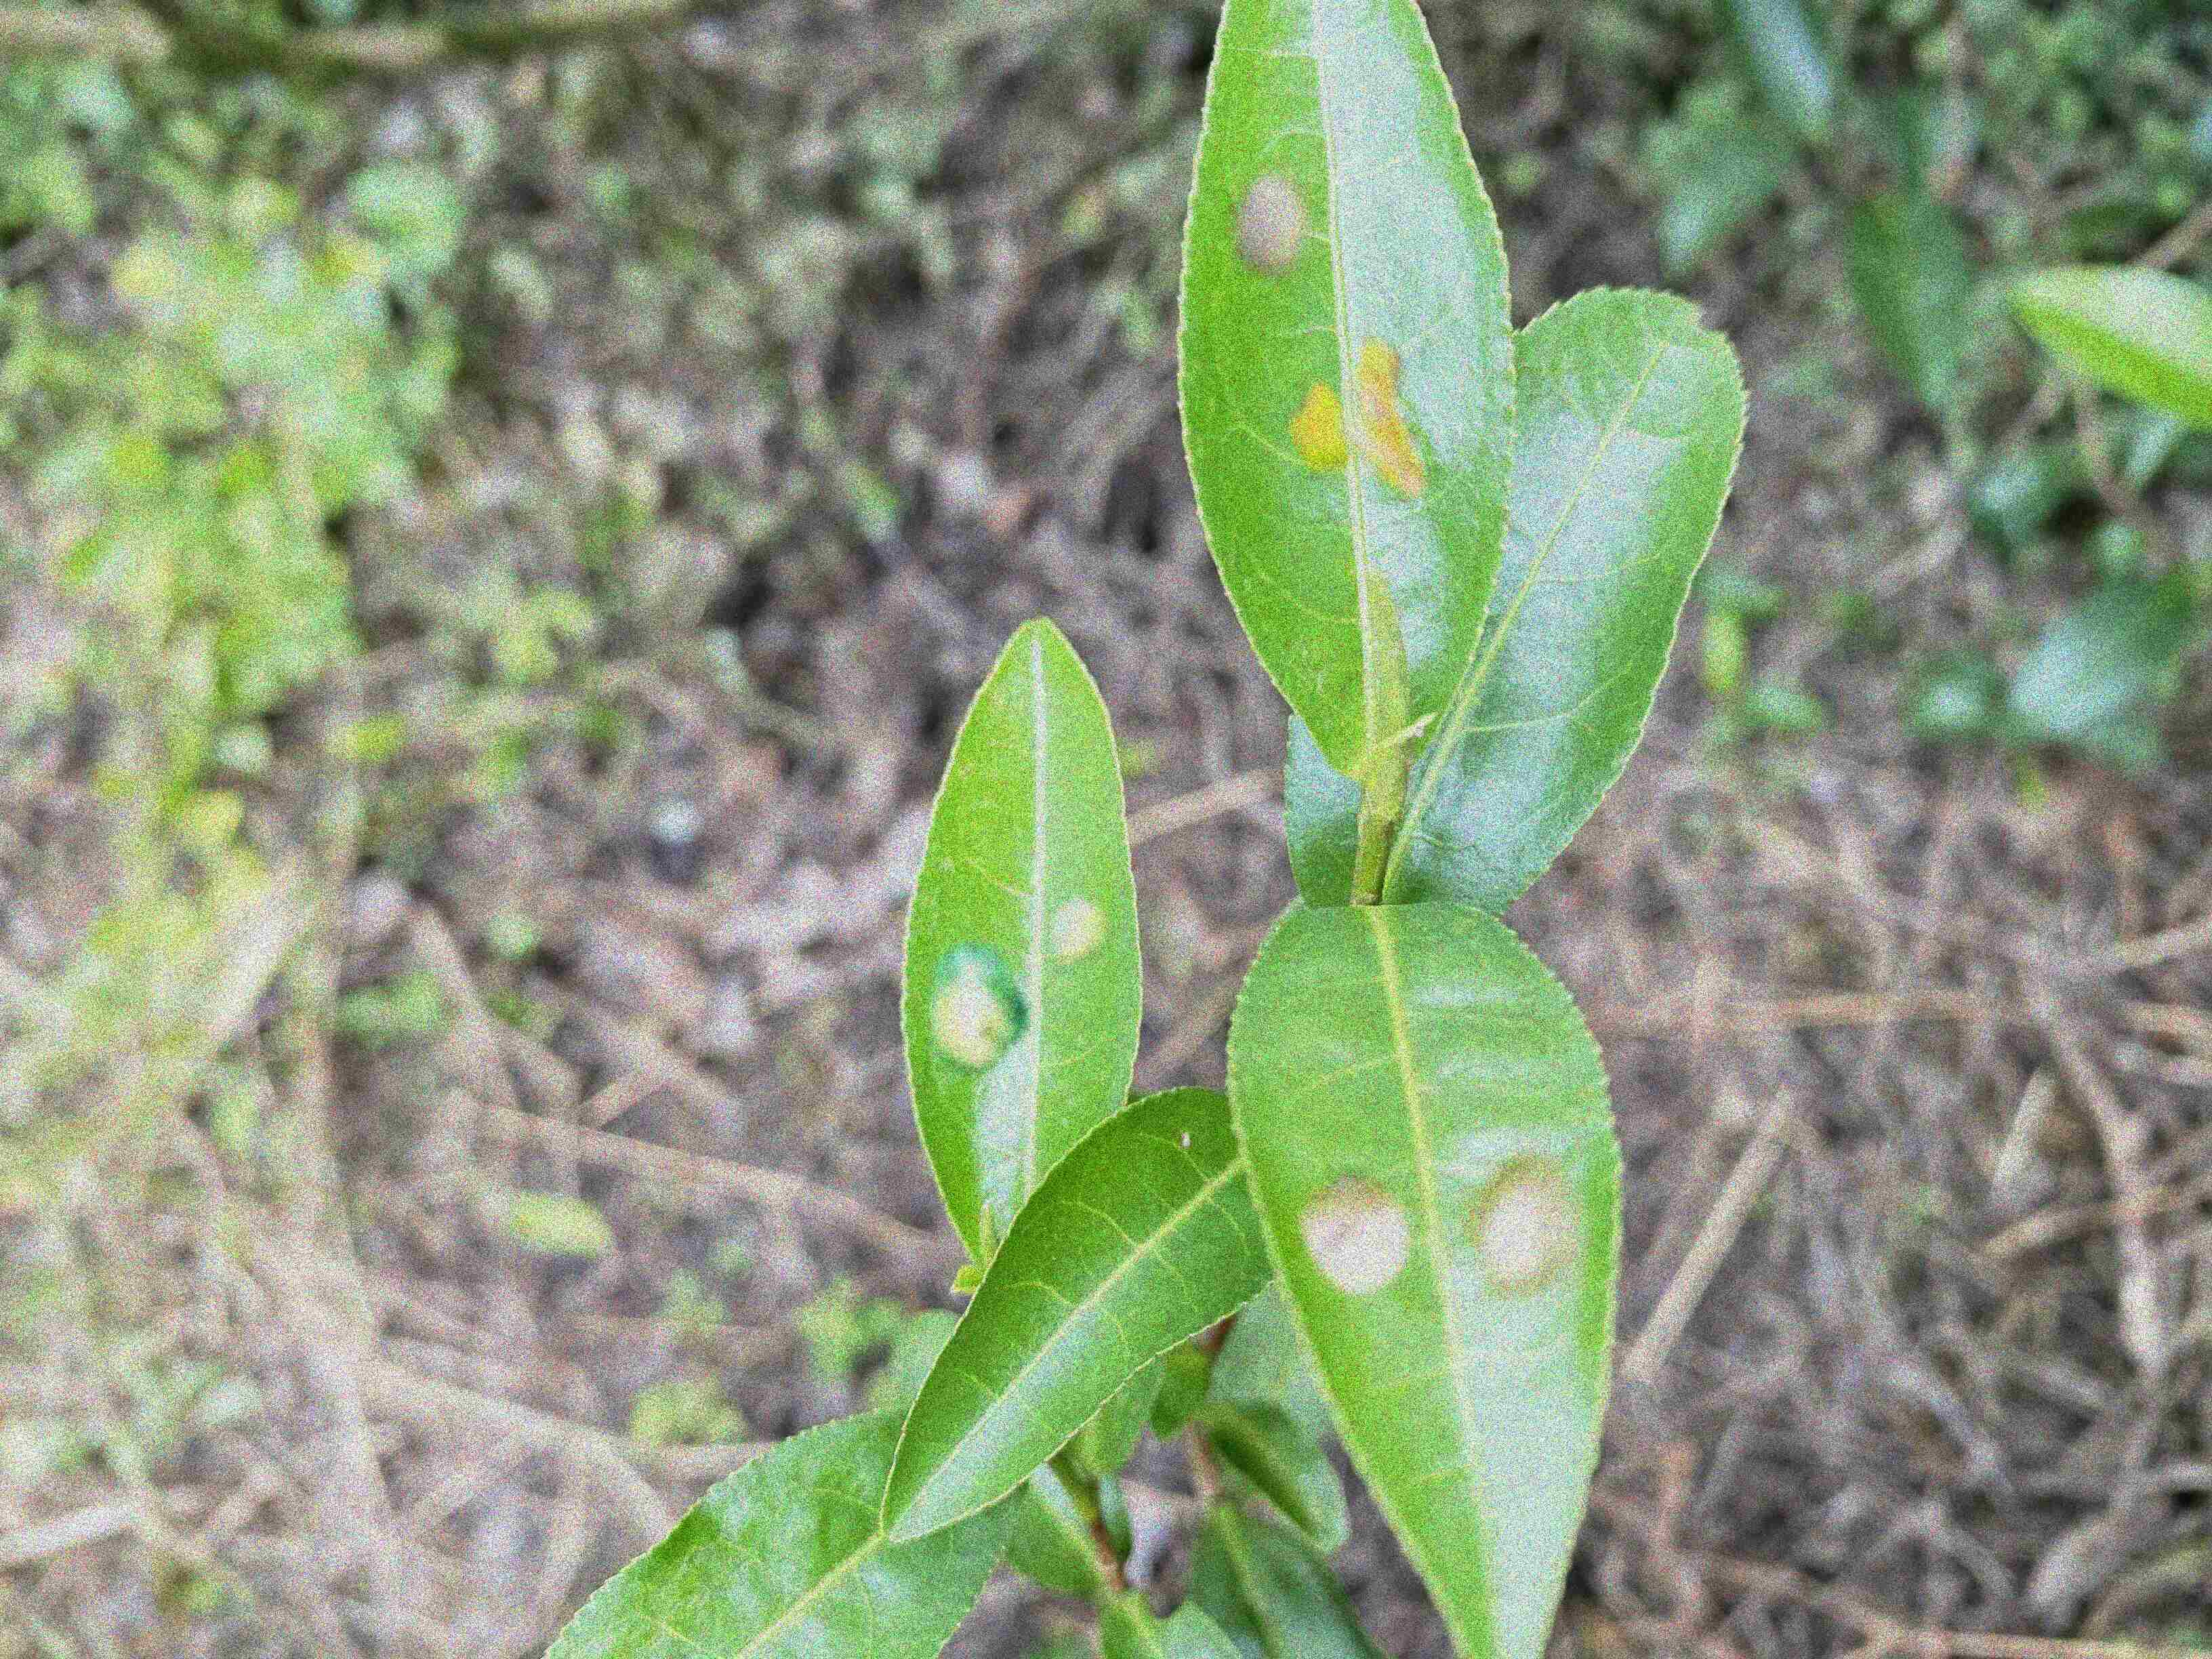chabing_high: (1228, 899, 1627, 1656), (1176, 0, 1515, 775), (900, 617, 1148, 1269)
healthy: (881, 1089, 1277, 1542), (540, 1410, 1029, 1659)
